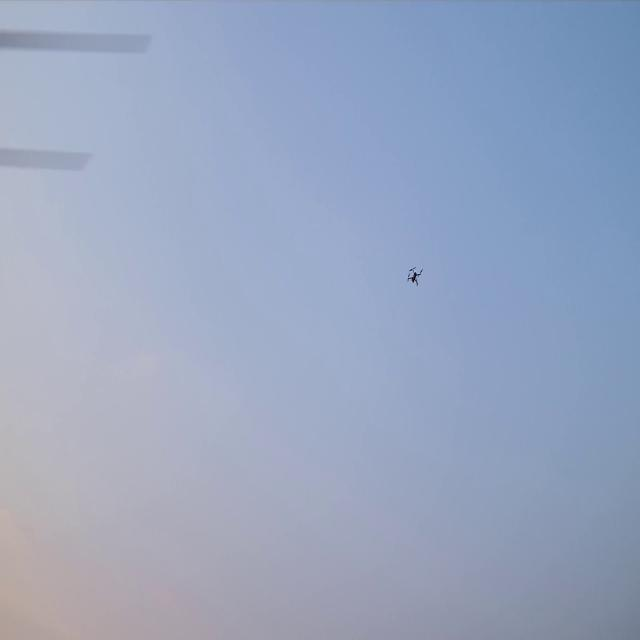UAV: (408, 268, 422, 285)
